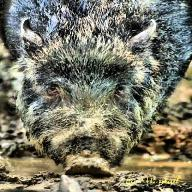boar: (3, 3, 192, 168)
